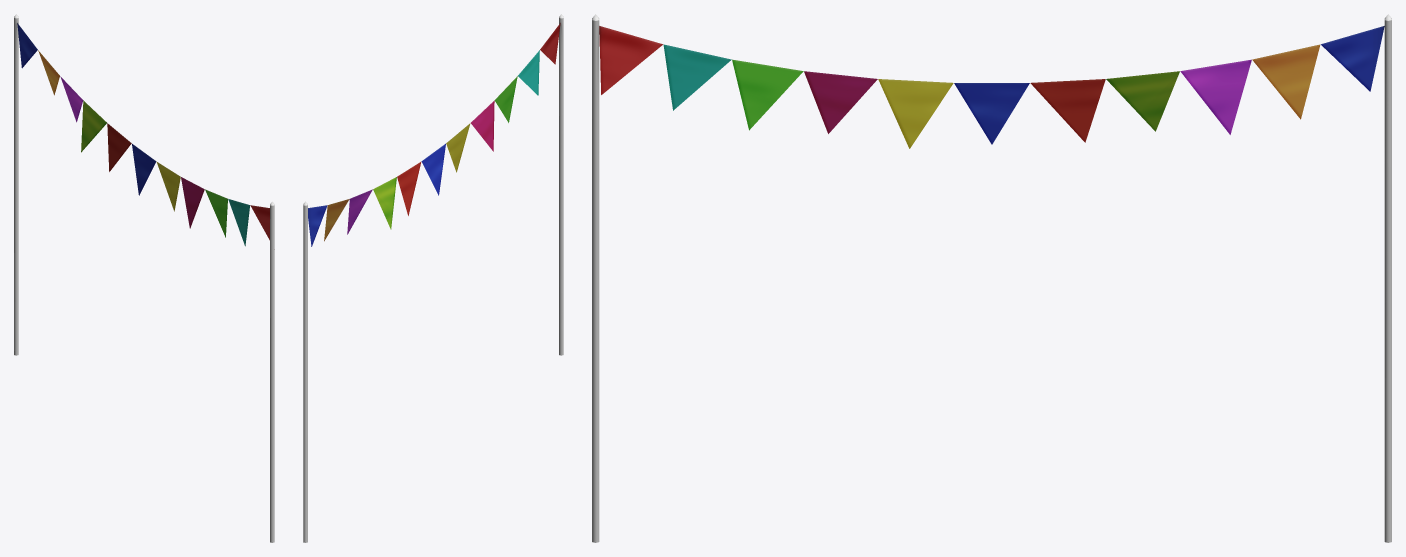
The model's file is A2_S1M1_0003_PartyBunting.fbx.
The picture shows the model from 3 angles, left to right: view 1: azimuth 30°, elevation 25°; view 2: azimuth 150°, elevation 25°; view 3: azimuth 270°, elevation 25°; orthographic projection. The views are drawn at different scales.
Visible parts, largest first — view 1: A2_S1M1_0003_PartyBunting; view 2: A2_S1M1_0003_PartyBunting; view 3: A2_S1M1_0003_PartyBunting.
Boxes of the visible parts, left/top/right/bottom form: A2_S1M1_0003_PartyBunting: left=14, top=14, right=274, bottom=542; A2_S1M1_0003_PartyBunting: left=303, top=14, right=563, bottom=542; A2_S1M1_0003_PartyBunting: left=592, top=14, right=1391, bottom=542.
Size of the model in its own units: 17.32 by 279 by 383.
